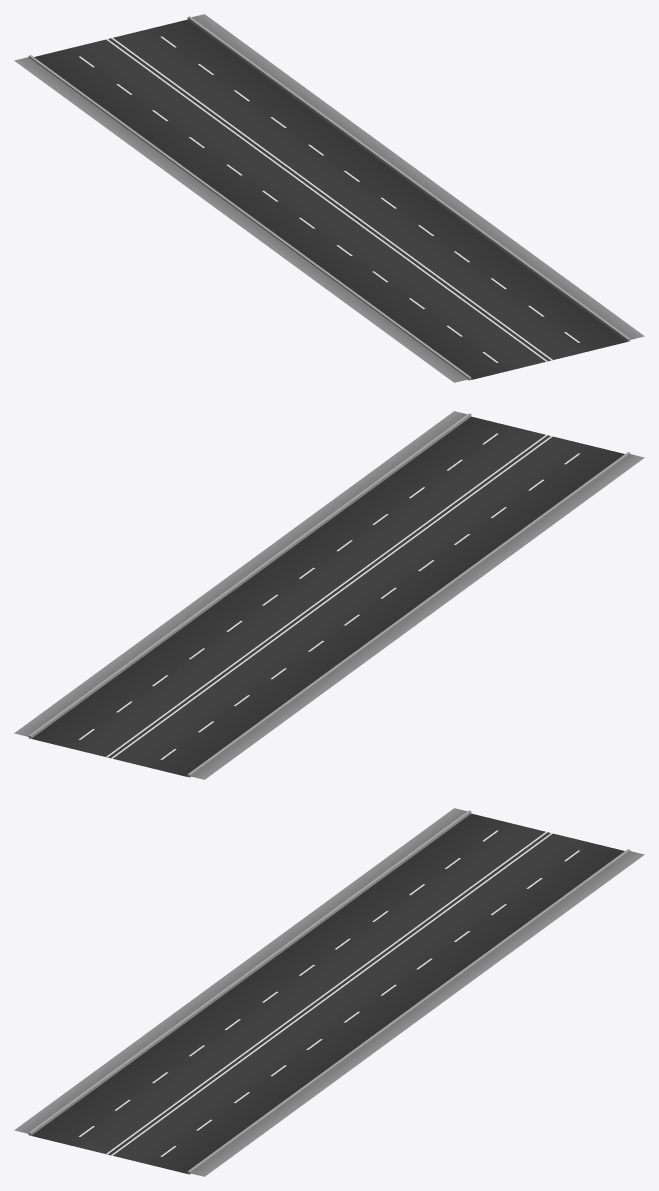
File: road_lane.glb
The picture shows the model from 3 angles, top to bottom: view 1: azimuth 30°, elevation 25°; view 2: azimuth 150°, elevation 25°; view 3: azimuth 330°, elevation 25°; orthographic projection.
Parts seen in each view (by area): view 1: road_ns_0, road_ns_3, road_ns_2, road_ns_1; view 2: road_ns_3, road_ns_0, road_ns_1, road_ns_2; view 3: road_ns_0, road_ns_3, road_ns_2, road_ns_1.
Part boxes in pixels (left/top/right/bottom): road_ns_0: left=344, top=256, right=644, bottom=382; road_ns_3: left=14, top=14, right=314, bottom=140; road_ns_2: left=124, top=94, right=424, bottom=221; road_ns_1: left=234, top=175, right=534, bottom=302; road_ns_3: left=14, top=653, right=314, bottom=779; road_ns_0: left=344, top=411, right=644, bottom=537; road_ns_1: left=234, top=491, right=534, bottom=618; road_ns_2: left=124, top=572, right=424, bottom=699; road_ns_0: left=14, top=1050, right=314, bottom=1176; road_ns_3: left=344, top=808, right=644, bottom=934; road_ns_2: left=234, top=888, right=534, bottom=1015; road_ns_1: left=124, top=969, right=424, bottom=1096.
Bounding box in the file's own units: 15 × 0.2 × 60.
4 materials, 4 textured.
